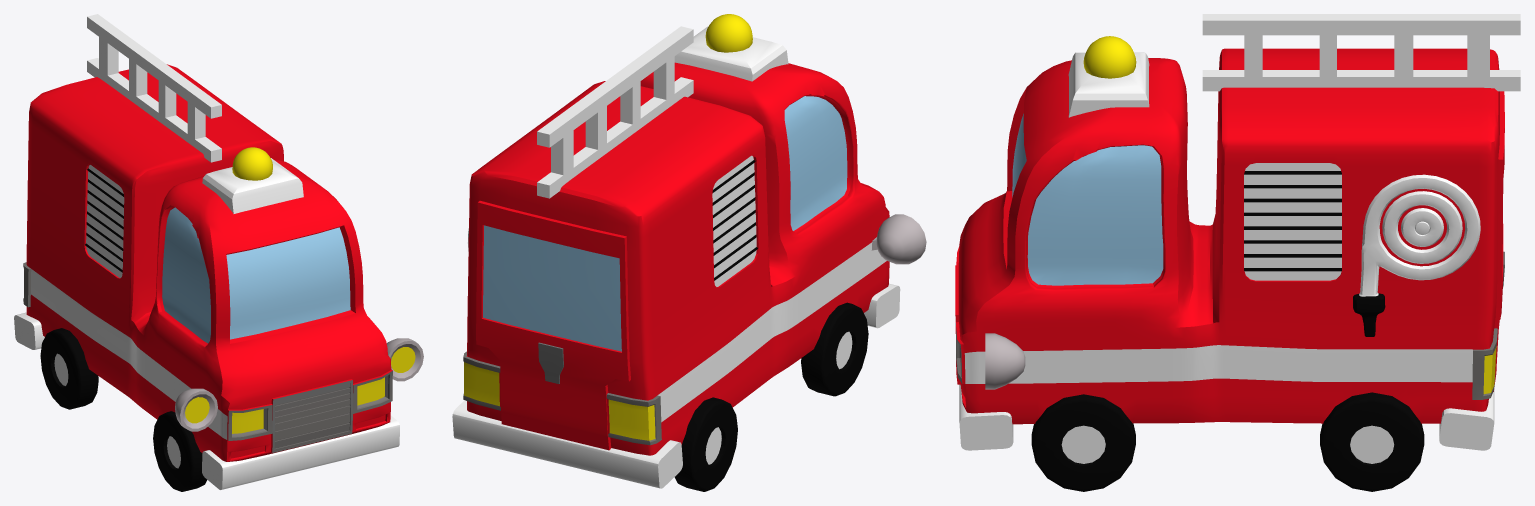
The model's file is pojarni2.glb.
The picture shows the model from 3 angles, left to right: view 1: azimuth 30°, elevation 25°; view 2: azimuth 150°, elevation 25°; view 3: azimuth 270°, elevation 25°; orthographic projection. The views are drawn at different scales.
Visible parts, largest first — view 1: pojarni; view 2: pojarni; view 3: pojarni.
Part boxes in pixels (box(x1,y1,x2,y2)): pojarni: box(14, 14, 423, 491); pojarni: box(452, 14, 926, 491); pojarni: box(955, 14, 1520, 491).
Bounding box in the file's own units: 1.35 × 1.74 × 2.12.
